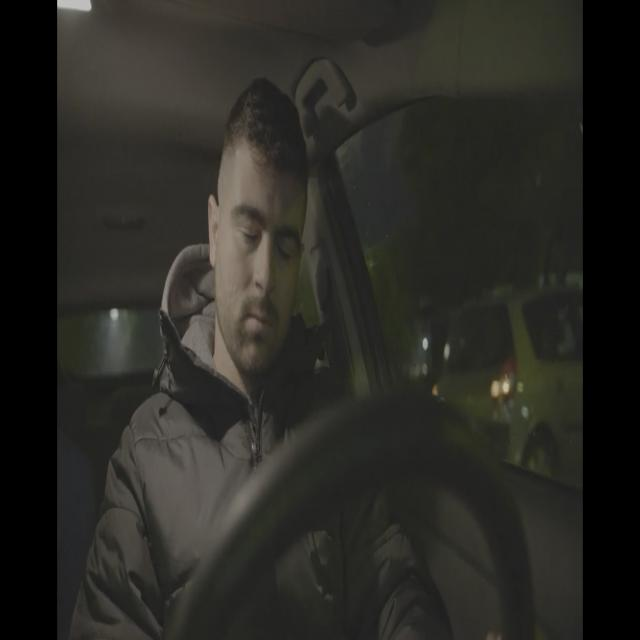Eye-Close: (276, 240, 298, 258), (238, 226, 260, 242)
